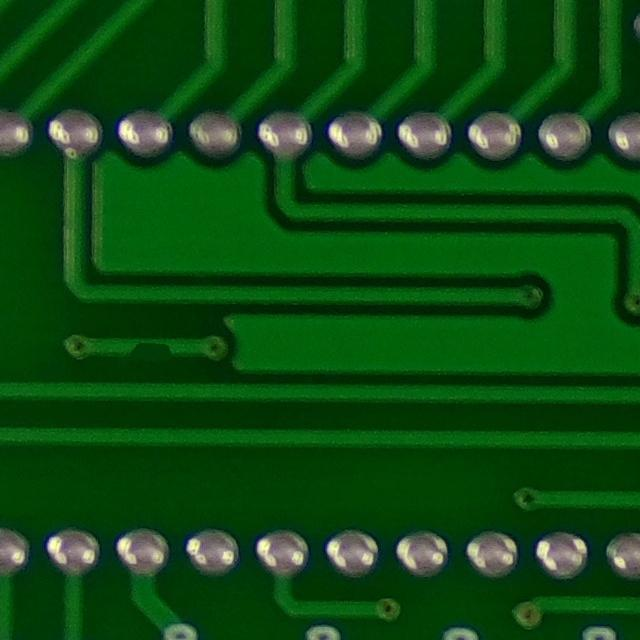mouse_bite: (114, 321, 183, 367)
